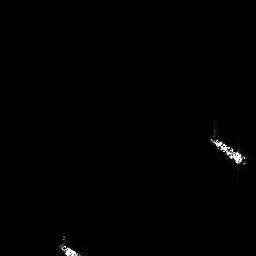ship: (209, 136, 244, 163)
